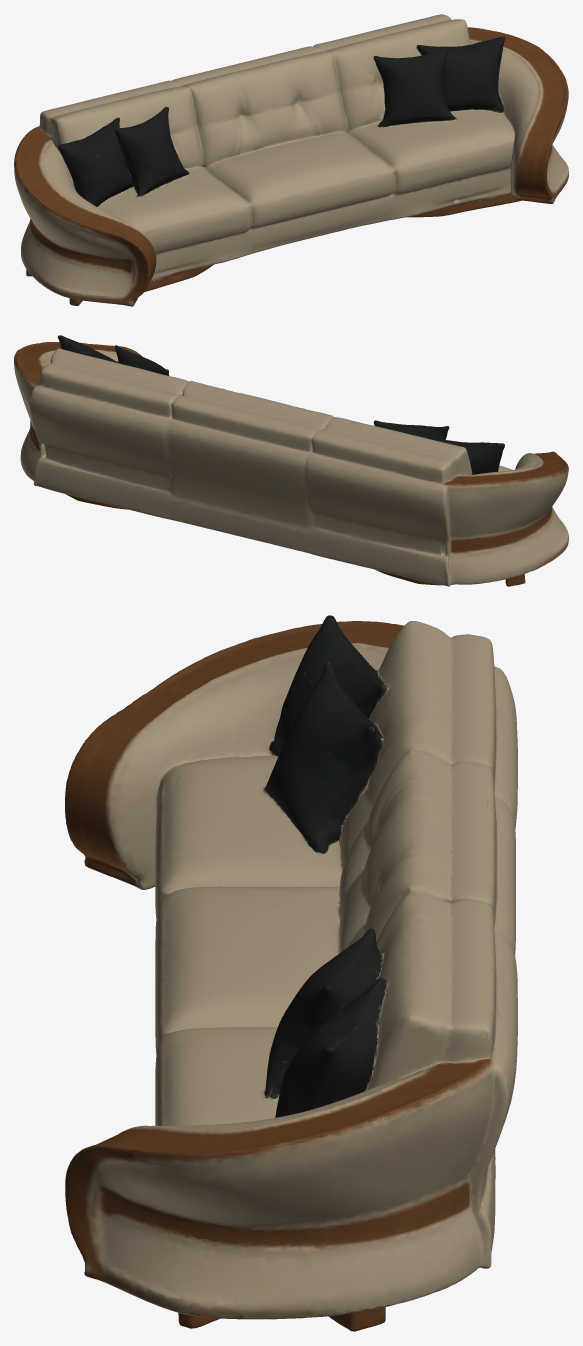
The model's file is Modern Three-Seater Sofa with Curved Wood Arms [QV4sWk].glb.
3 renders of one model, top to bottom at view 1: azimuth 30°, elevation 25°; view 2: azimuth 150°, elevation 25°; view 3: azimuth 270°, elevation 25°, orthographic. The views are drawn at different scales.
Parts seen in each view (by area): view 1: world; view 2: world; view 3: world.
Part boxes in pixels (left/top/right/bottom): world: left=14, top=14, right=568, bottom=306; world: left=14, top=335, right=568, bottom=586; world: left=65, top=615, right=517, bottom=1331.
Bounding box in the file's own units: 1 × 0.2481 × 0.373.
Materials: 1 (1 with a texture image).
